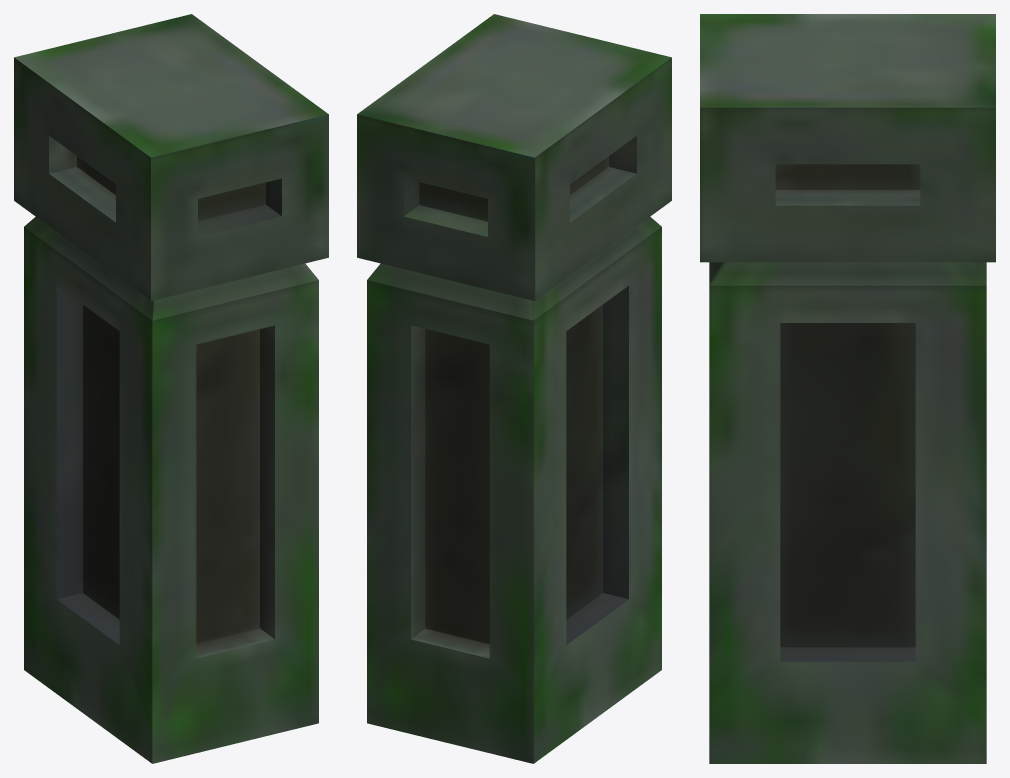
Rendered from Battle01_Bridge Pillars_02.FBX.
3 views of the same model, side by side, from view 1: azimuth 30°, elevation 25°; view 2: azimuth 150°, elevation 25°; view 3: azimuth 270°, elevation 25° (orthographic). The views are drawn at different scales.
Visible parts, largest first — view 1: C01_Bridge railing_02; view 2: C01_Bridge railing_02; view 3: C01_Bridge railing_02.
Boxes of the visible parts, box(x1,y1,x2,y2) form: C01_Bridge railing_02: box(14, 14, 328, 763); C01_Bridge railing_02: box(357, 14, 671, 763); C01_Bridge railing_02: box(700, 14, 995, 763).
Size of the model in its own units: 0.4439 by 1.46 by 0.5927.
